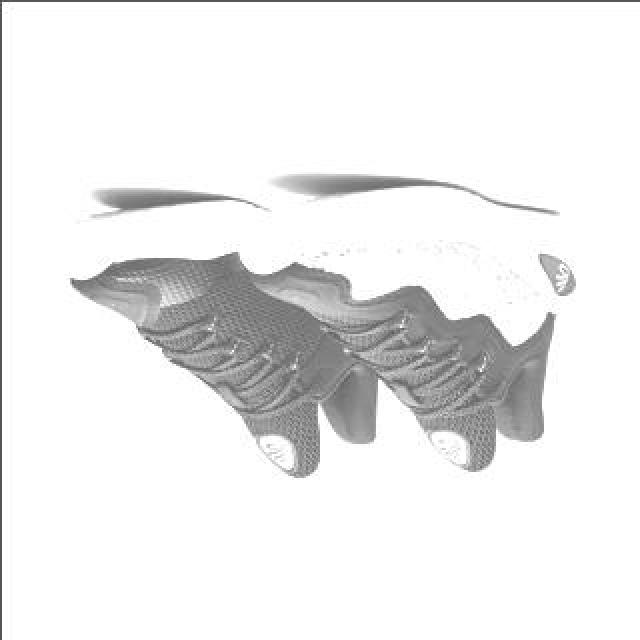shoe: (237, 180, 581, 472), (60, 200, 388, 478)
